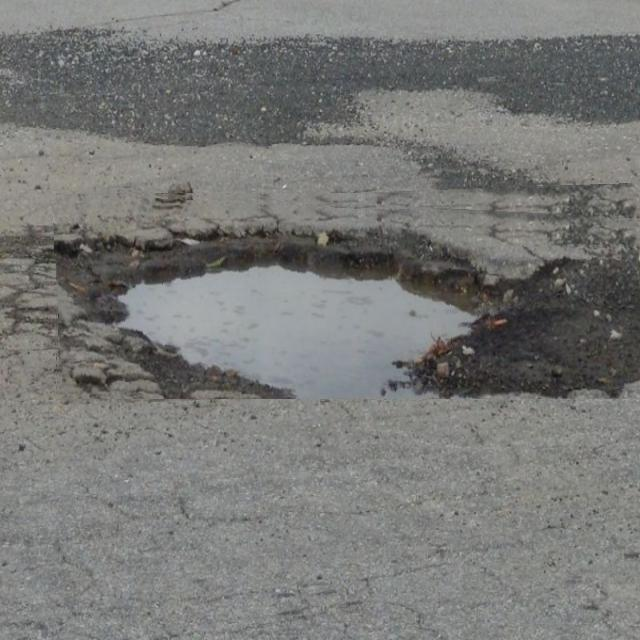Pothole: (54, 188, 640, 399)
